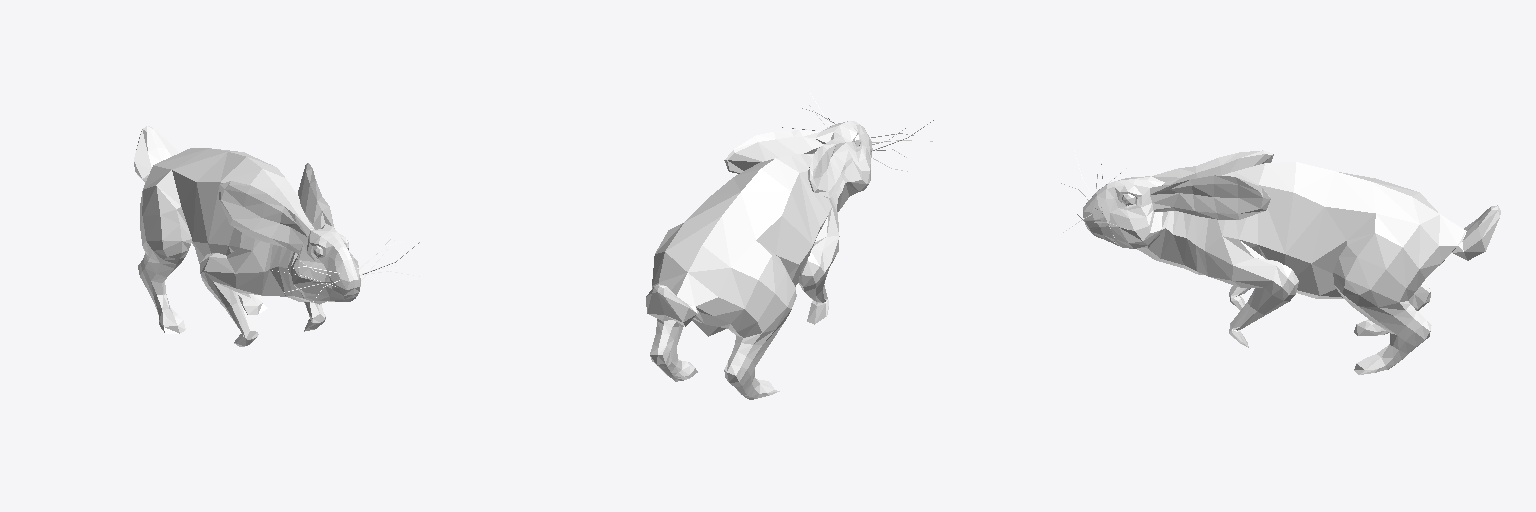
Rendered from rabbit_000016.obj.
The picture shows the model from 3 angles: view 1: azimuth 30°, elevation 25°; view 2: azimuth 150°, elevation 25°; view 3: azimuth 270°, elevation 25°; orthographic projection.
Visible parts, largest first — view 1: Rabbit_Cylinder; view 2: Rabbit_Cylinder; view 3: Rabbit_Cylinder.
Part boxes in pixels (x1,y1,x2,y2): Rabbit_Cylinder: (134,126,419,346); Rabbit_Cylinder: (646,93,933,399); Rabbit_Cylinder: (1061,150,1500,374).
Bounding box in the file's own units: 6.96 × 9.9 × 20.67.